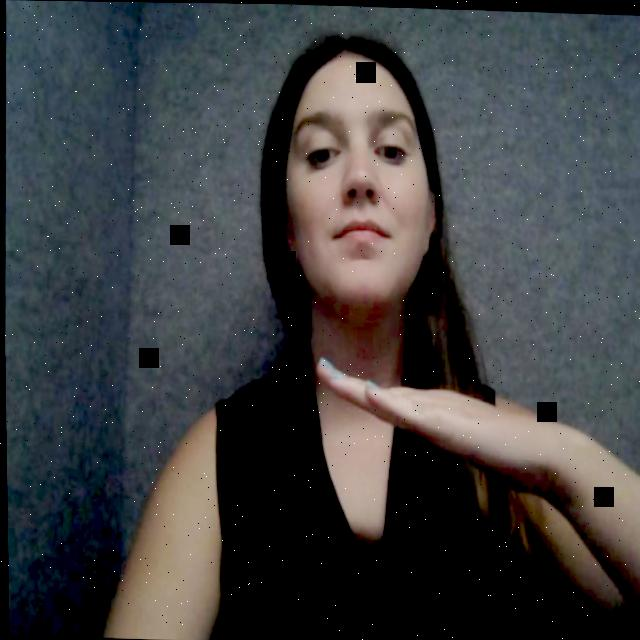Paper: (318, 352, 561, 493)
